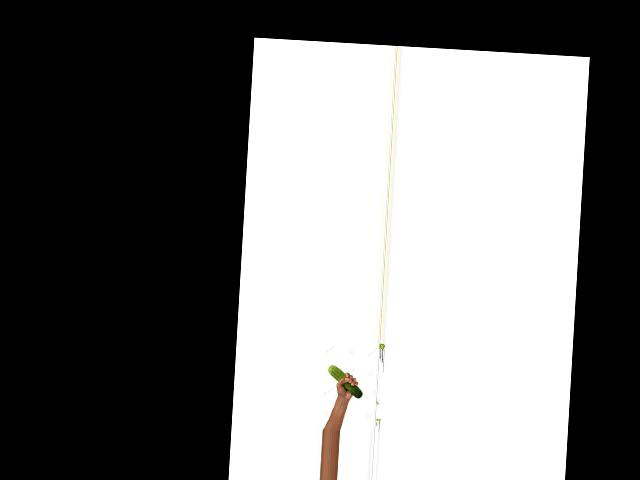cucumber: (327, 365, 364, 399)
